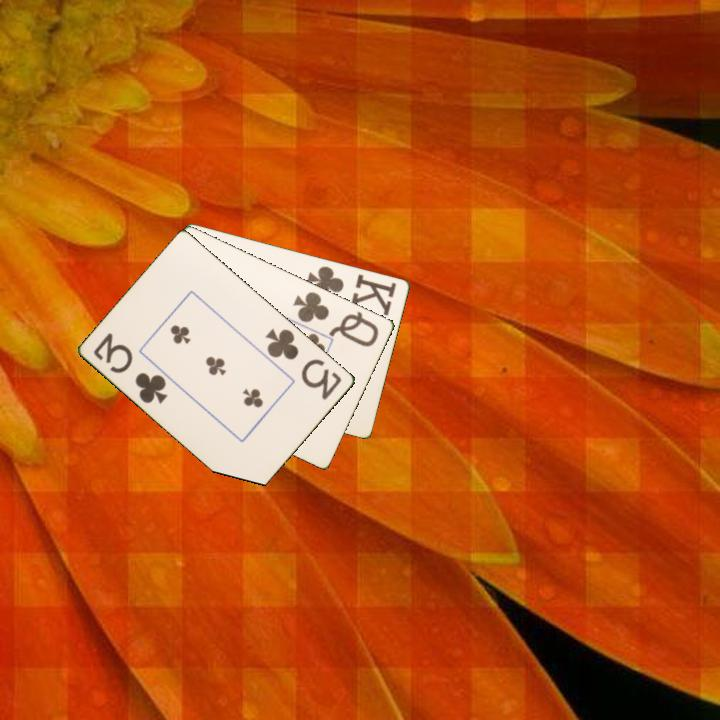3c: (262, 325, 345, 403), (90, 329, 171, 407)
Kc: (303, 262, 400, 318)
Qc: (290, 288, 382, 350)
